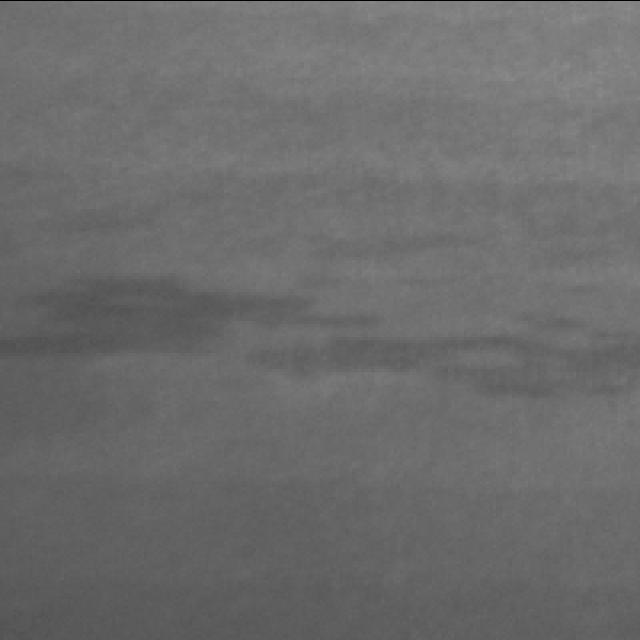inclusion: (11, 281, 339, 378), (271, 304, 540, 396), (493, 307, 640, 416)
